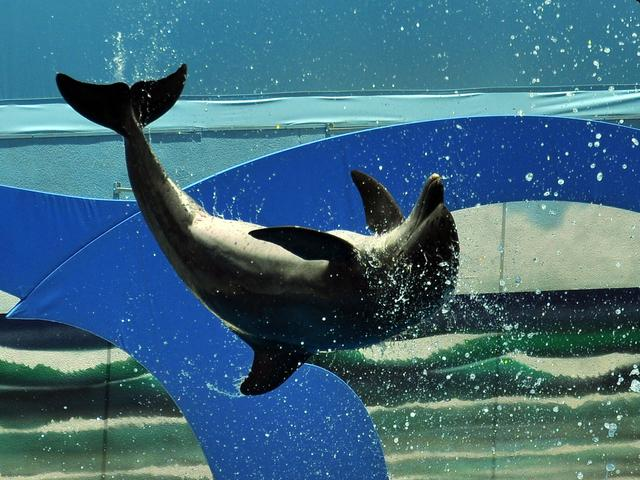dolphin: (34, 29, 494, 432)
